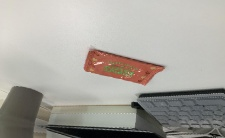pota: (81, 47, 167, 90)
